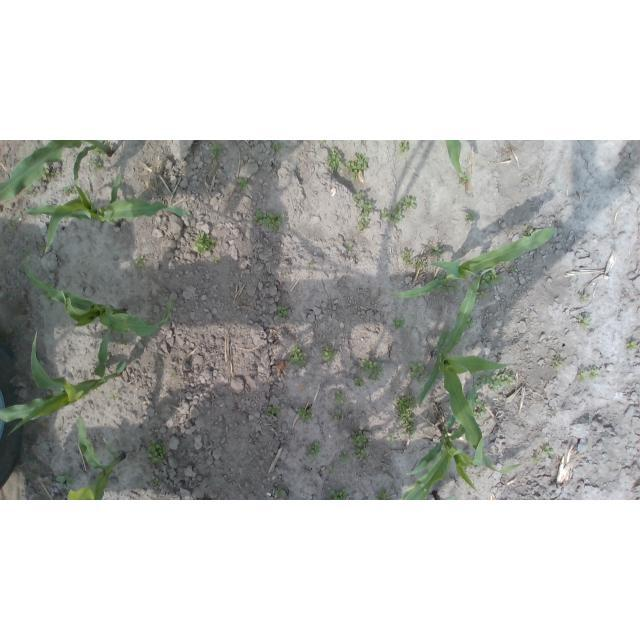Maize: (419, 270, 520, 474), (401, 380, 521, 500), (13, 170, 188, 251), (22, 248, 175, 338), (0, 329, 128, 432), (391, 227, 555, 298), (0, 140, 112, 204), (67, 404, 125, 501), (444, 141, 462, 178), (431, 489, 460, 500)
Weeds: (394, 395, 416, 436), (475, 371, 514, 393), (252, 208, 285, 233), (388, 196, 416, 224), (346, 152, 369, 180), (192, 231, 216, 255), (148, 438, 169, 464), (352, 429, 369, 460), (326, 147, 343, 173), (479, 269, 502, 288), (409, 363, 429, 383), (288, 345, 307, 366), (360, 357, 383, 374), (474, 397, 487, 420), (208, 144, 224, 161), (38, 166, 56, 181), (440, 283, 460, 296), (297, 404, 312, 421), (306, 442, 320, 458), (360, 200, 373, 217), (56, 475, 73, 488), (330, 488, 348, 500), (322, 348, 337, 362), (579, 315, 592, 331), (376, 488, 393, 500), (88, 158, 102, 171), (393, 318, 407, 331), (624, 340, 639, 352), (431, 246, 444, 259), (352, 192, 366, 204), (540, 444, 552, 457), (358, 217, 370, 230), (236, 177, 248, 190), (268, 405, 281, 417), (276, 306, 288, 319), (402, 252, 412, 267), (117, 332, 128, 345), (576, 370, 588, 381), (589, 368, 600, 380), (465, 317, 476, 329), (135, 256, 146, 268), (271, 141, 281, 154), (399, 140, 409, 153), (336, 391, 345, 405), (464, 211, 476, 221), (352, 377, 364, 387), (524, 224, 535, 234), (415, 260, 427, 269), (331, 411, 341, 421), (460, 173, 469, 184), (380, 210, 389, 221), (63, 186, 74, 195), (476, 292, 487, 301), (368, 373, 380, 381), (531, 456, 541, 465), (93, 148, 103, 157), (340, 451, 349, 461), (580, 293, 589, 302), (389, 433, 398, 442), (552, 360, 560, 369), (40, 243, 45, 256), (276, 491, 285, 498), (155, 477, 162, 485), (329, 467, 337, 474), (109, 396, 120, 401), (28, 471, 37, 477), (41, 421, 48, 428), (510, 267, 517, 273), (346, 243, 353, 249), (307, 262, 315, 267), (215, 255, 221, 261), (435, 277, 444, 280), (552, 220, 557, 225), (504, 262, 510, 266), (170, 374, 176, 378), (320, 140, 325, 144)
